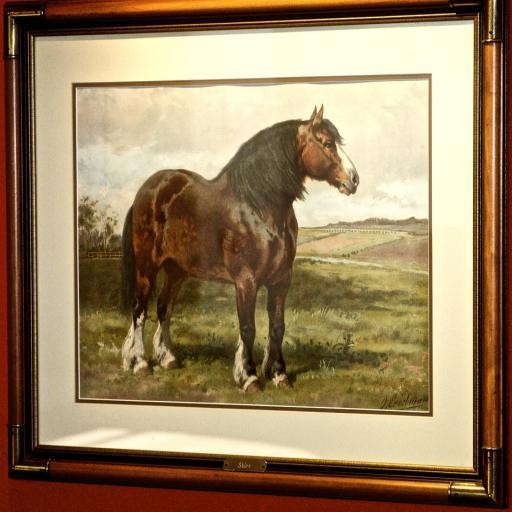horse: (114, 101, 362, 397)
